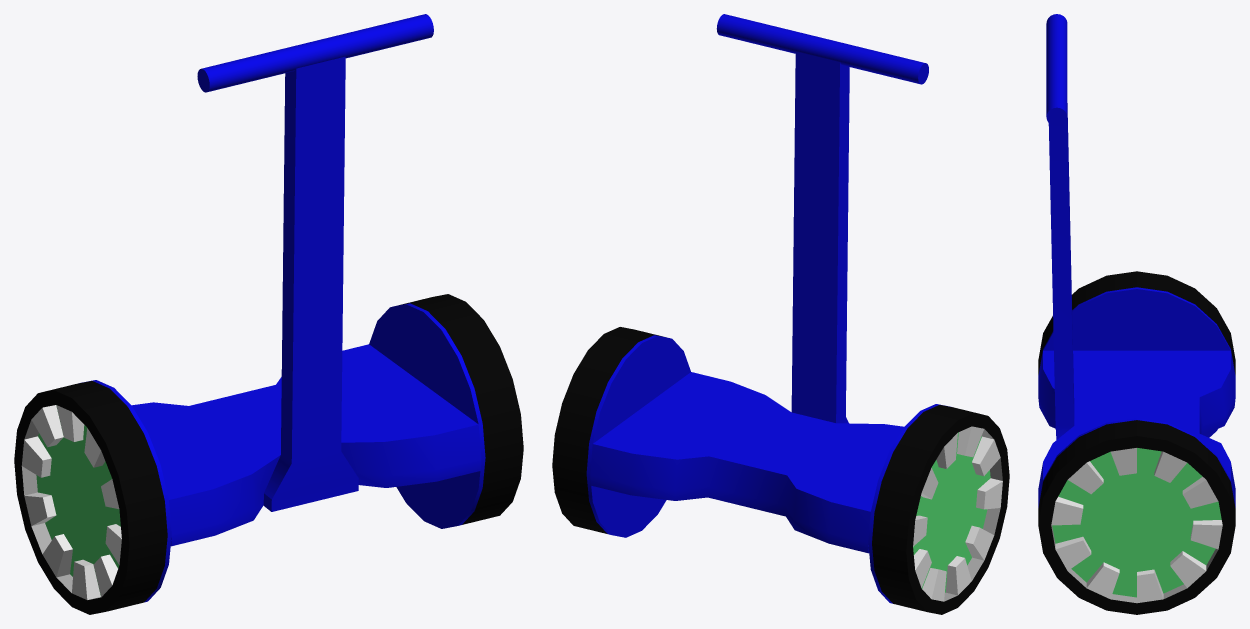
Rendered from Segway (2).fbx.
3 views of the same model, side by side, from view 1: azimuth 30°, elevation 25°; view 2: azimuth 150°, elevation 25°; view 3: azimuth 270°, elevation 25° (orthographic). The views are drawn at different scales.
Visible parts, largest first — view 1: pCylinder3; view 2: pCylinder3; view 3: pCylinder3.
Boxes of the visible parts, <box> form: pCylinder3: <box>14,14,523,614</box>; pCylinder3: <box>552,14,1009,614</box>; pCylinder3: <box>1038,14,1235,614</box>.
Size of the model in its own units: 3.95 by 5.27 by 2.
